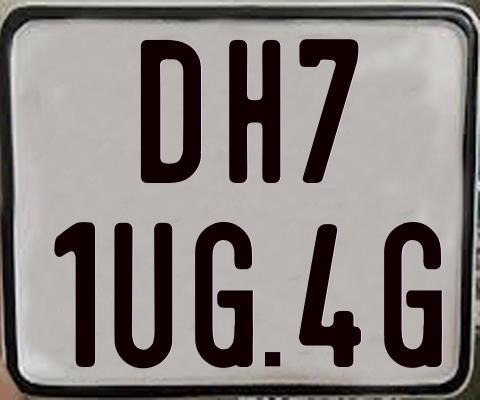1: (52, 219, 99, 366)
4: (296, 221, 362, 367)
7: (299, 39, 361, 185)
D: (138, 39, 201, 184)
G: (383, 221, 446, 372), (193, 220, 254, 368)
H: (228, 38, 284, 182)
U: (112, 221, 173, 367)
